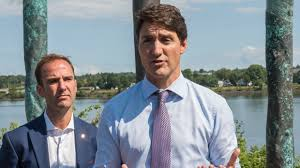F_M_suit jacket: (3, 118, 103, 168)
F_shirt: (95, 78, 248, 168)
F_tie: (153, 91, 174, 168)
